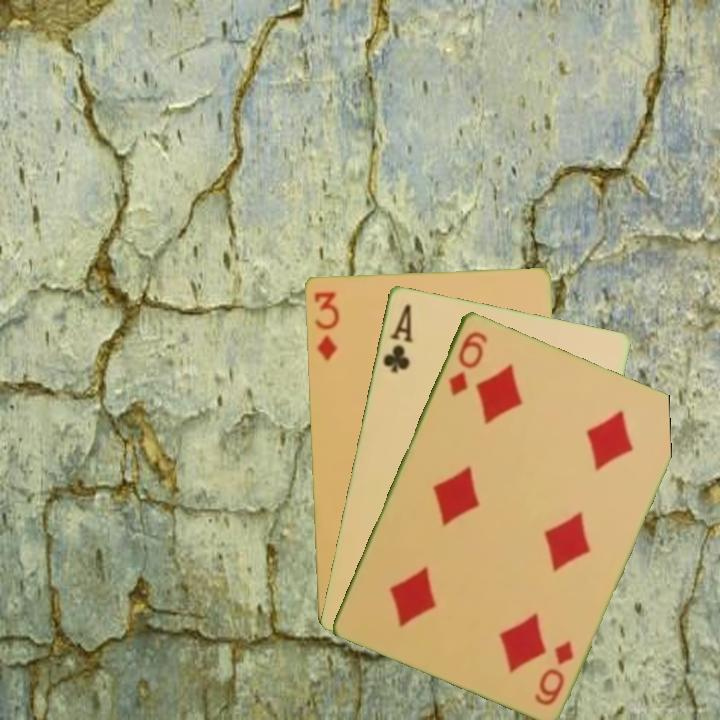3d: (310, 288, 341, 363)
6d: (530, 636, 577, 709), (445, 327, 490, 399)
Ac: (379, 299, 416, 376)
